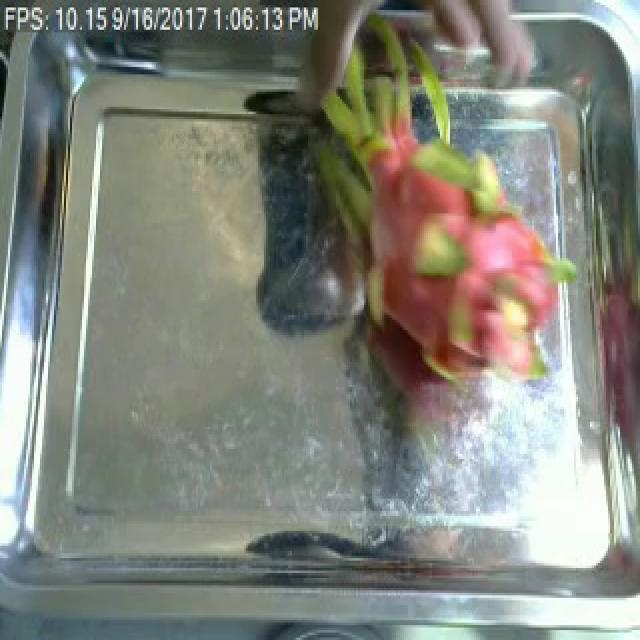fruit: (284, 37, 594, 432)
